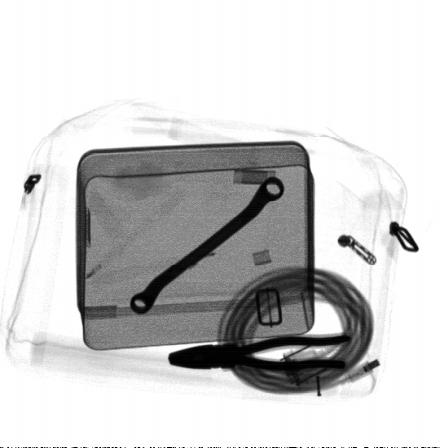Pliers: (167, 330, 353, 371)
Wrench: (130, 175, 284, 314)
